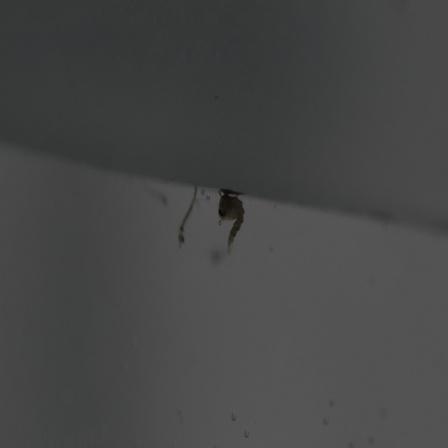Jentik-Nyamuk: (210, 188, 248, 258), (173, 178, 200, 250)
